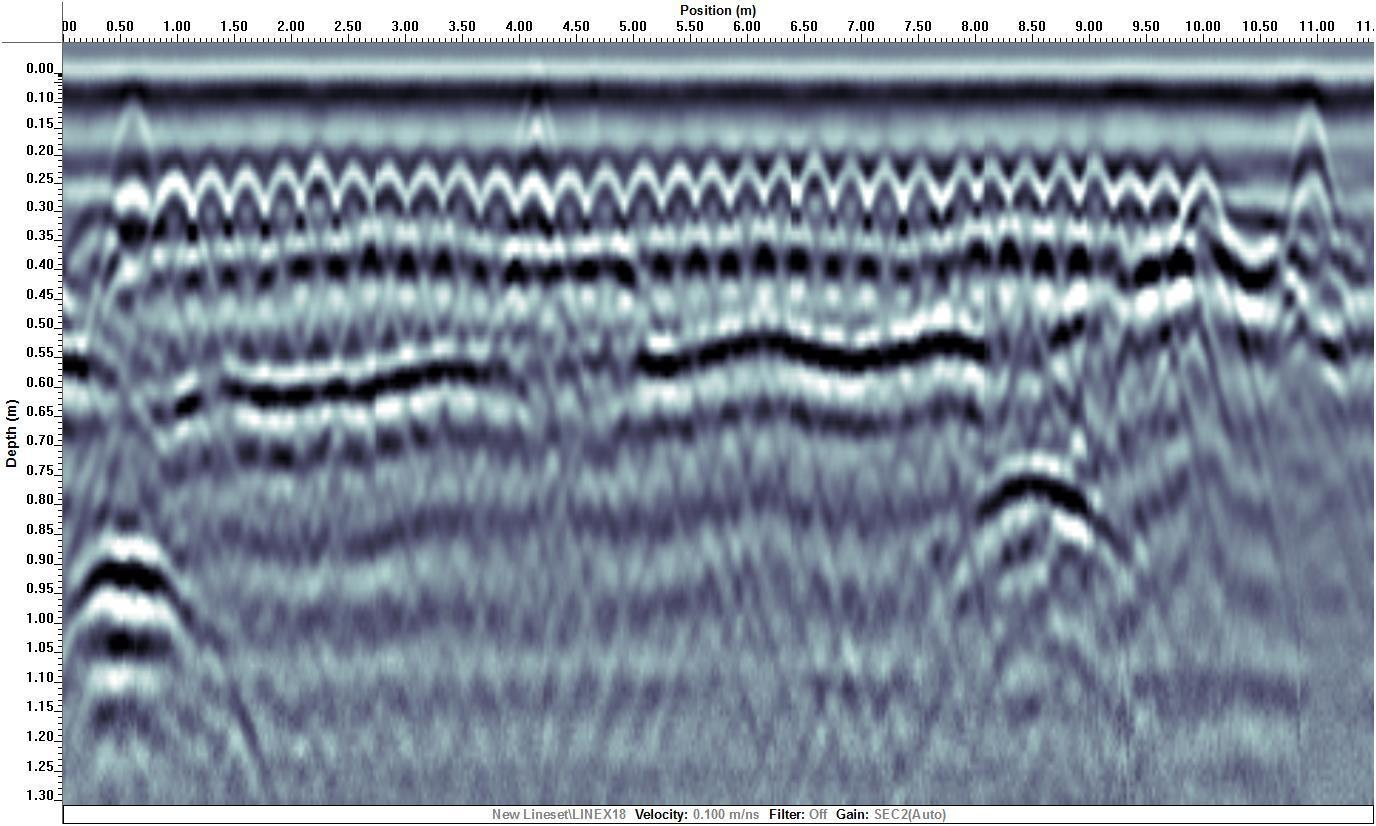hyperbola: (1273, 100, 1338, 315), (101, 104, 166, 319), (152, 144, 204, 276), (181, 142, 233, 274), (220, 142, 272, 274), (256, 147, 308, 279), (298, 146, 350, 278), (325, 145, 377, 277), (355, 146, 407, 278), (399, 144, 451, 276), (432, 147, 484, 279), (471, 152, 523, 284), (512, 150, 564, 282), (543, 156, 595, 288), (585, 154, 637, 286), (627, 152, 679, 284), (652, 150, 704, 282), (682, 149, 734, 281), (714, 147, 766, 279), (786, 150, 838, 282), (823, 153, 875, 285), (861, 148, 913, 280), (891, 146, 943, 278), (927, 144, 979, 276), (959, 142, 1011, 274), (1004, 140, 1056, 272), (1035, 141, 1087, 273), (1066, 140, 1118, 272), (1099, 142, 1151, 274), (1138, 141, 1190, 273), (1177, 146, 1229, 278), (1175, 144, 1227, 276)
